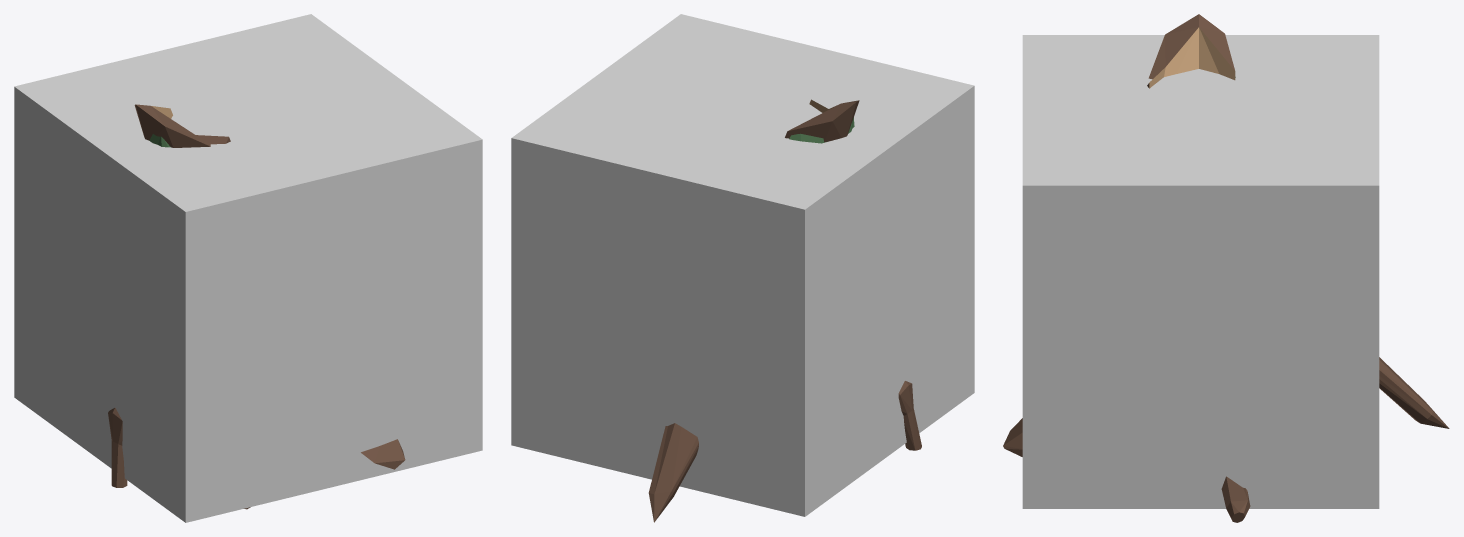
File: stump_swamp.glb
3 renders of one model, left to right at view 1: azimuth 30°, elevation 25°; view 2: azimuth 150°, elevation 25°; view 3: azimuth 270°, elevation 25°, orthographic. The views are drawn at different scales.
Parts seen in each view (by area): view 1: Cube, stump_4; view 2: Cube, stump_4; view 3: Cube, stump_4.
Boxes of the visible parts, bbox=[...] form: Cube: bbox=[14, 14, 482, 522]; stump_4: bbox=[108, 104, 405, 509]; Cube: bbox=[511, 14, 974, 516]; stump_4: bbox=[648, 99, 921, 522]; Cube: bbox=[1022, 35, 1379, 508]; stump_4: bbox=[1003, 14, 1449, 522].
Size of the model in its own units: 1.35 by 1.39 by 1.51.
Materials: 1 (1 with a texture image).
